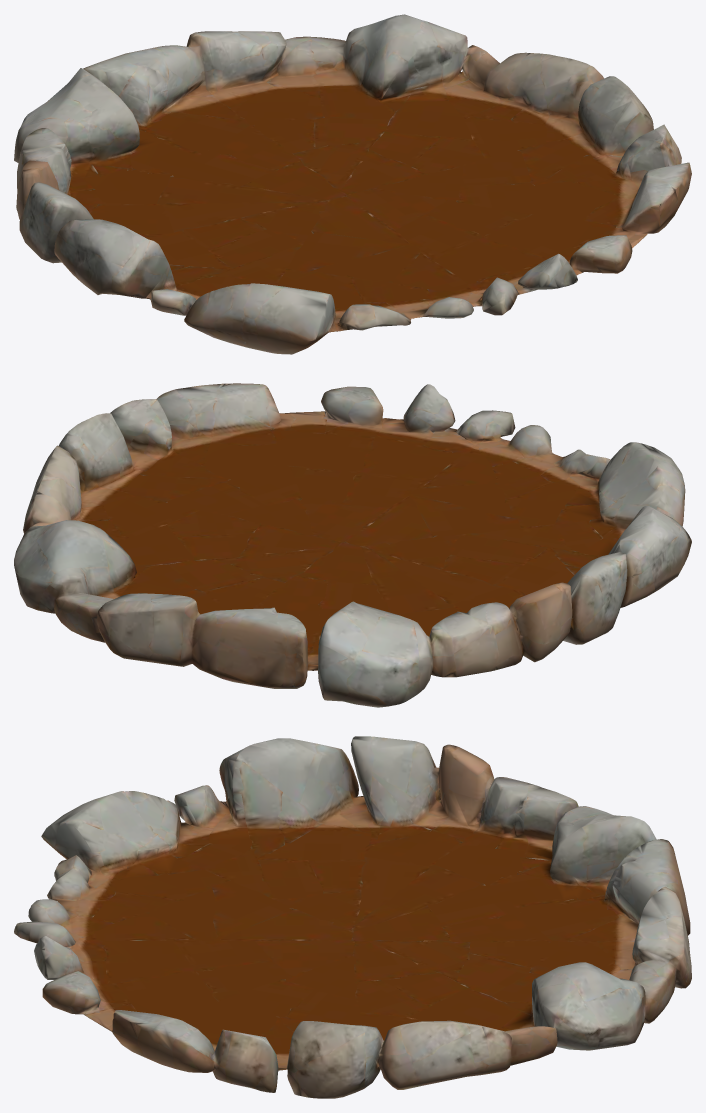
Rendered from water_hole.glb.
3 renders of one model, top to bottom at view 1: azimuth 30°, elevation 25°; view 2: azimuth 150°, elevation 25°; view 3: azimuth 270°, elevation 25°, orthographic. The views are drawn at different scales.
Bounding box in the file's own units: 1.9 × 0.2657 × 1.84.
Materials: 1 (1 with a texture image).
